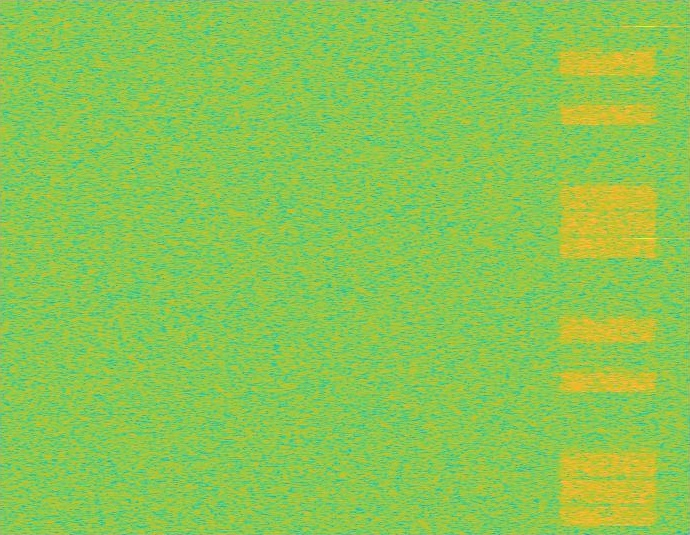LTE: (556, 0, 660, 534)
Radar: (639, 0, 652, 534)
